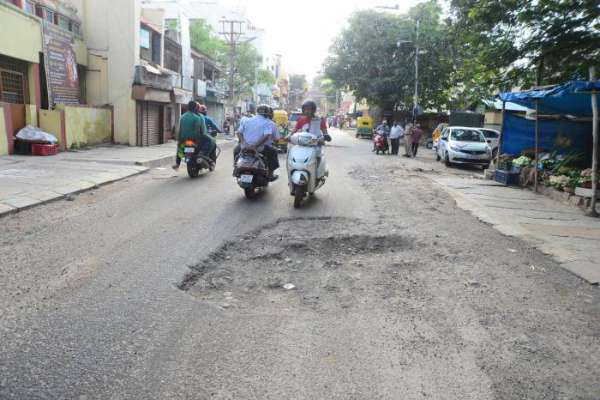pothole: (195, 202, 402, 317)
